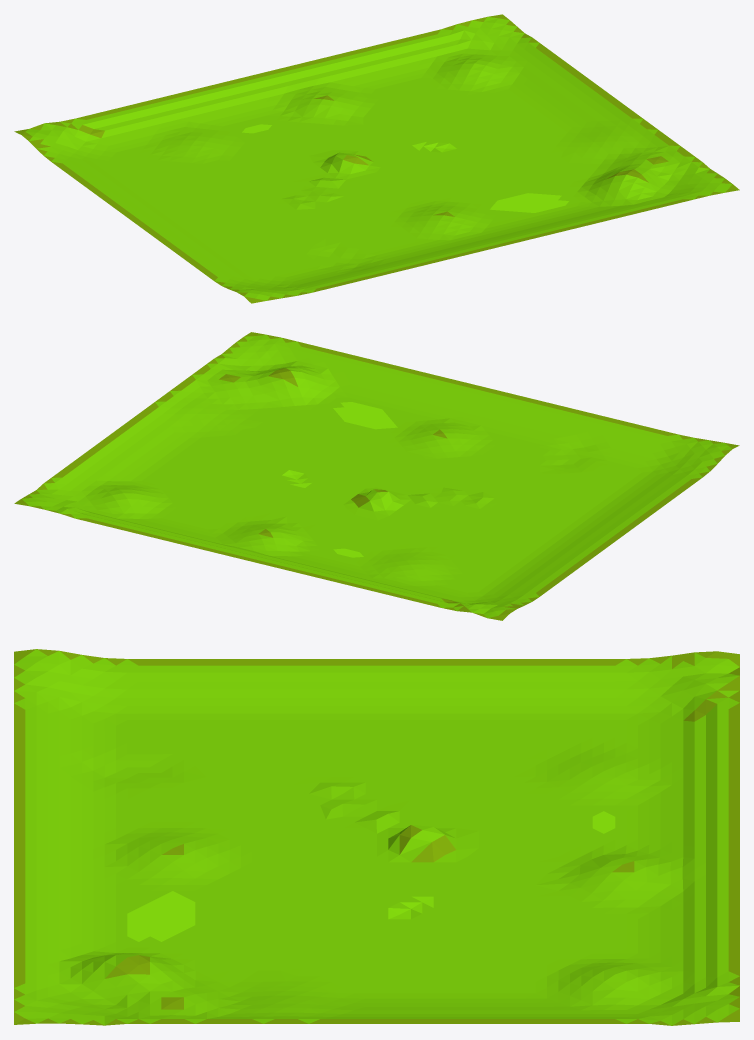
Rendered from baseGroundLevel01.glb.
The picture shows the model from 3 angles, top to bottom: view 1: azimuth 30°, elevation 25°; view 2: azimuth 150°, elevation 25°; view 3: azimuth 270°, elevation 25°; orthographic projection. The views are drawn at different scales.
Parts seen in each view (by area): view 1: Plane-col; view 2: Plane-col; view 3: Plane-col.
Part boxes in pixels (box(x1,y1,x2,y2)): Plane-col: box(14, 14, 739, 303); Plane-col: box(14, 332, 739, 620); Plane-col: box(14, 649, 739, 1025).
Bounding box in the file's own units: 772 × 26.7 × 650.
